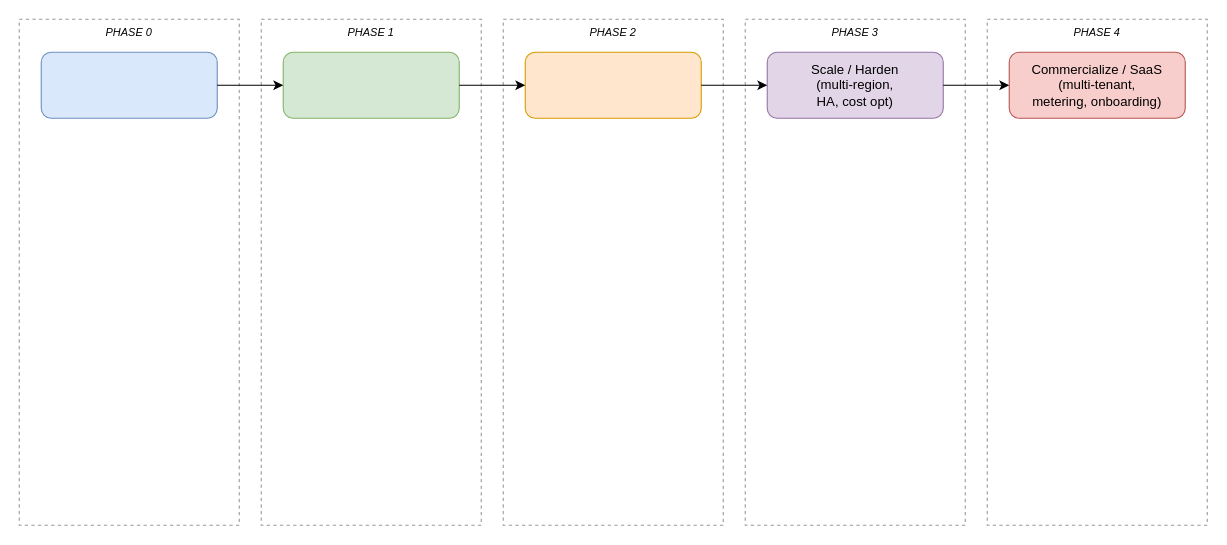
Some shapes in this 1227 by 545 pixel diagram are drawn without their labels. The centre of each missing label's shape, as x and y in pixels:
"2-Day Prototype (thin slice, de-ID data)" goes at (x=370, y=84).
"Production MVP (single-tenant, governed, HITL)" goes at (x=612, y=84).
"Readiness (quota, access, landing zone)" goes at (x=128, y=84).
